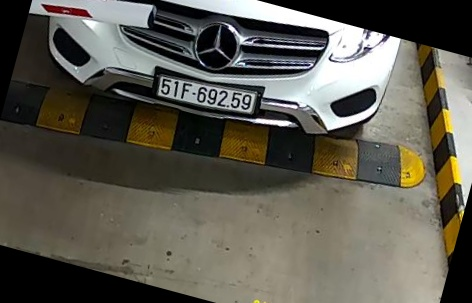plate: (152, 63, 260, 124)
